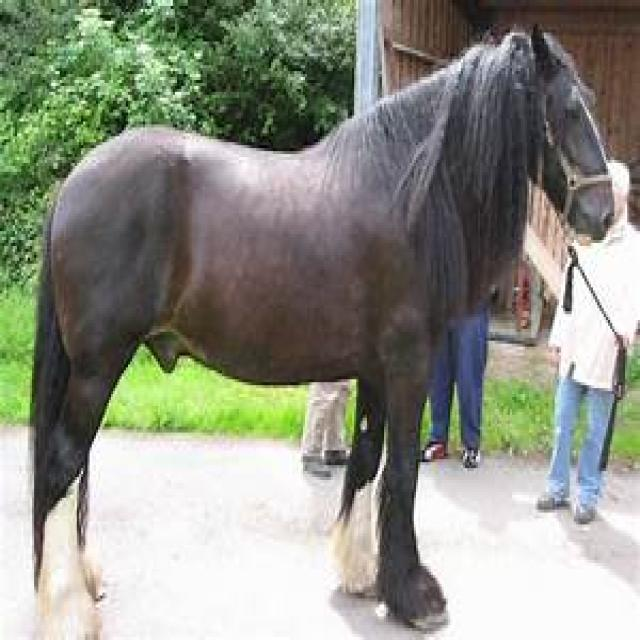horse: (37, 33, 614, 626)
